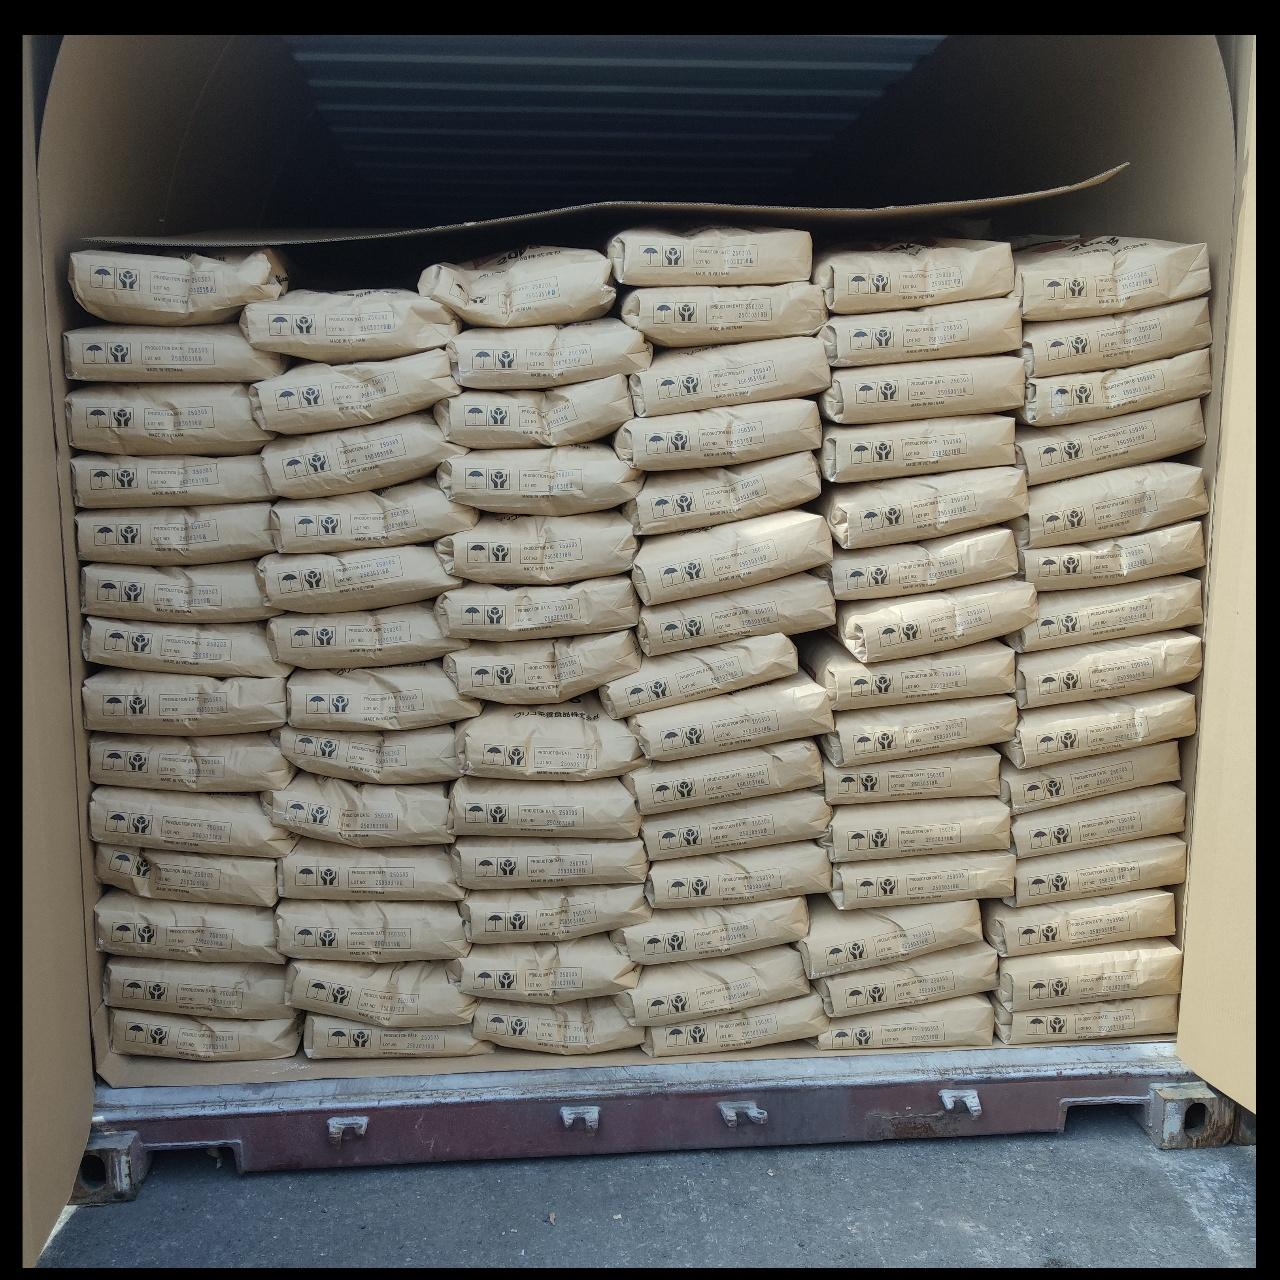sack: (632, 509, 832, 605), (626, 670, 833, 759), (250, 349, 459, 434), (820, 465, 1028, 548), (1010, 463, 1207, 550), (261, 414, 465, 497), (1015, 236, 1210, 321), (624, 451, 820, 535), (600, 634, 797, 717), (837, 579, 1036, 661), (1015, 399, 1204, 485), (637, 573, 834, 654), (69, 250, 287, 323), (240, 290, 459, 362), (631, 337, 830, 416), (419, 247, 615, 327), (457, 697, 645, 780), (616, 945, 808, 1026), (271, 477, 478, 552), (1020, 346, 1210, 426), (437, 442, 645, 515), (435, 510, 639, 584), (624, 739, 822, 815), (805, 638, 1014, 710), (1004, 688, 1194, 767), (799, 896, 982, 978), (1007, 575, 1201, 652), (66, 383, 272, 455), (813, 240, 1013, 314), (1023, 297, 1210, 376), (820, 293, 1021, 366), (90, 786, 295, 857), (262, 770, 452, 846), (443, 630, 640, 703), (615, 399, 820, 469), (1016, 631, 1201, 708), (437, 375, 632, 448), (447, 318, 650, 388), (830, 526, 1018, 600), (95, 888, 282, 962), (813, 941, 997, 1016), (256, 545, 461, 612), (641, 789, 833, 860), (621, 281, 826, 347), (83, 669, 286, 735), (820, 356, 1023, 422), (998, 938, 1181, 1011), (435, 575, 640, 640), (1000, 741, 1180, 815), (267, 601, 468, 667), (64, 323, 292, 381), (611, 897, 808, 964), (822, 696, 1016, 764), (448, 934, 637, 1003), (1022, 520, 1205, 591), (822, 415, 1015, 482), (984, 889, 1175, 956), (1007, 834, 1186, 905), (288, 663, 480, 729), (1012, 785, 1185, 858), (286, 961, 474, 1027), (75, 502, 274, 564), (820, 797, 1009, 862), (646, 842, 831, 908), (89, 733, 294, 792), (82, 618, 290, 676), (83, 561, 279, 621), (278, 900, 466, 962), (103, 958, 294, 1018), (450, 778, 641, 838), (96, 843, 277, 906), (607, 229, 810, 285), (277, 839, 462, 900), (646, 994, 828, 1056), (461, 884, 650, 942), (830, 850, 1015, 909), (72, 454, 274, 507), (278, 725, 462, 783), (824, 747, 1000, 804), (818, 994, 993, 1050), (451, 838, 647, 887), (475, 996, 643, 1053), (110, 1010, 299, 1060), (992, 992, 1177, 1043), (304, 1014, 494, 1060)
